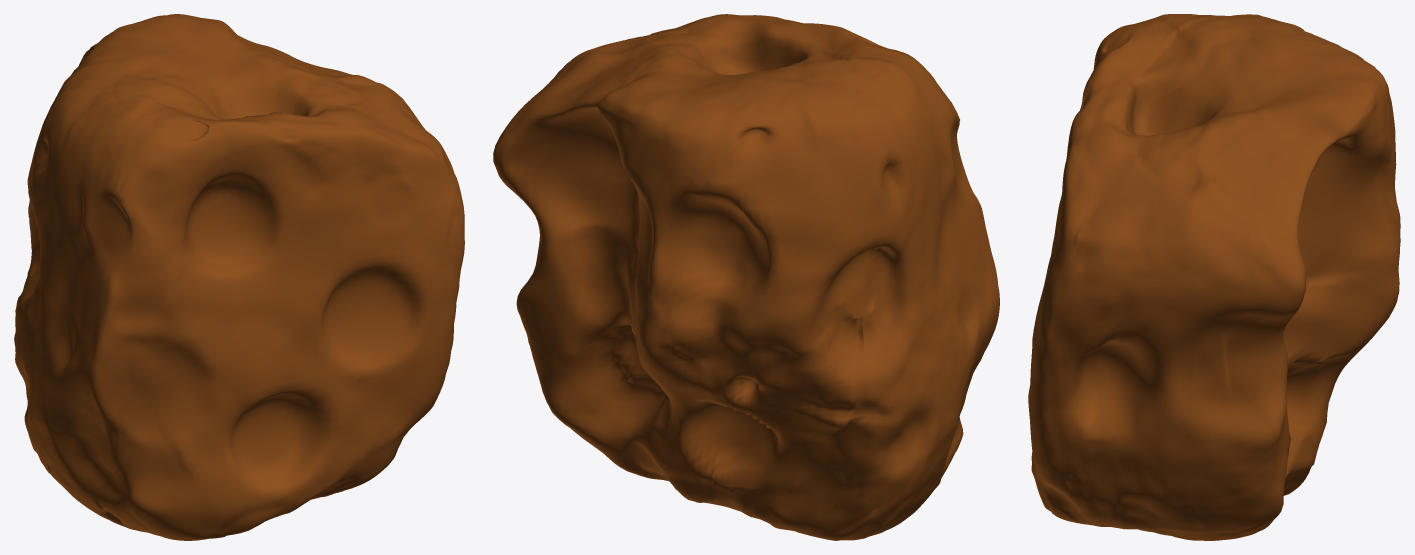
File: asteroid.fbx
3 renders of one model, left to right at view 1: azimuth 30°, elevation 25°; view 2: azimuth 150°, elevation 25°; view 3: azimuth 270°, elevation 25°, orthographic. The views are drawn at different scales.
Parts seen in each view (by area): view 1: asterioid; view 2: asterioid; view 3: asterioid.
Part boxes in pixels (<box>): asterioid: <box>14,14,464,540</box>; asterioid: <box>493,14,999,540</box>; asterioid: <box>1028,14,1400,540</box>.
Bounding box in the file's own units: 702 × 742 × 560.
